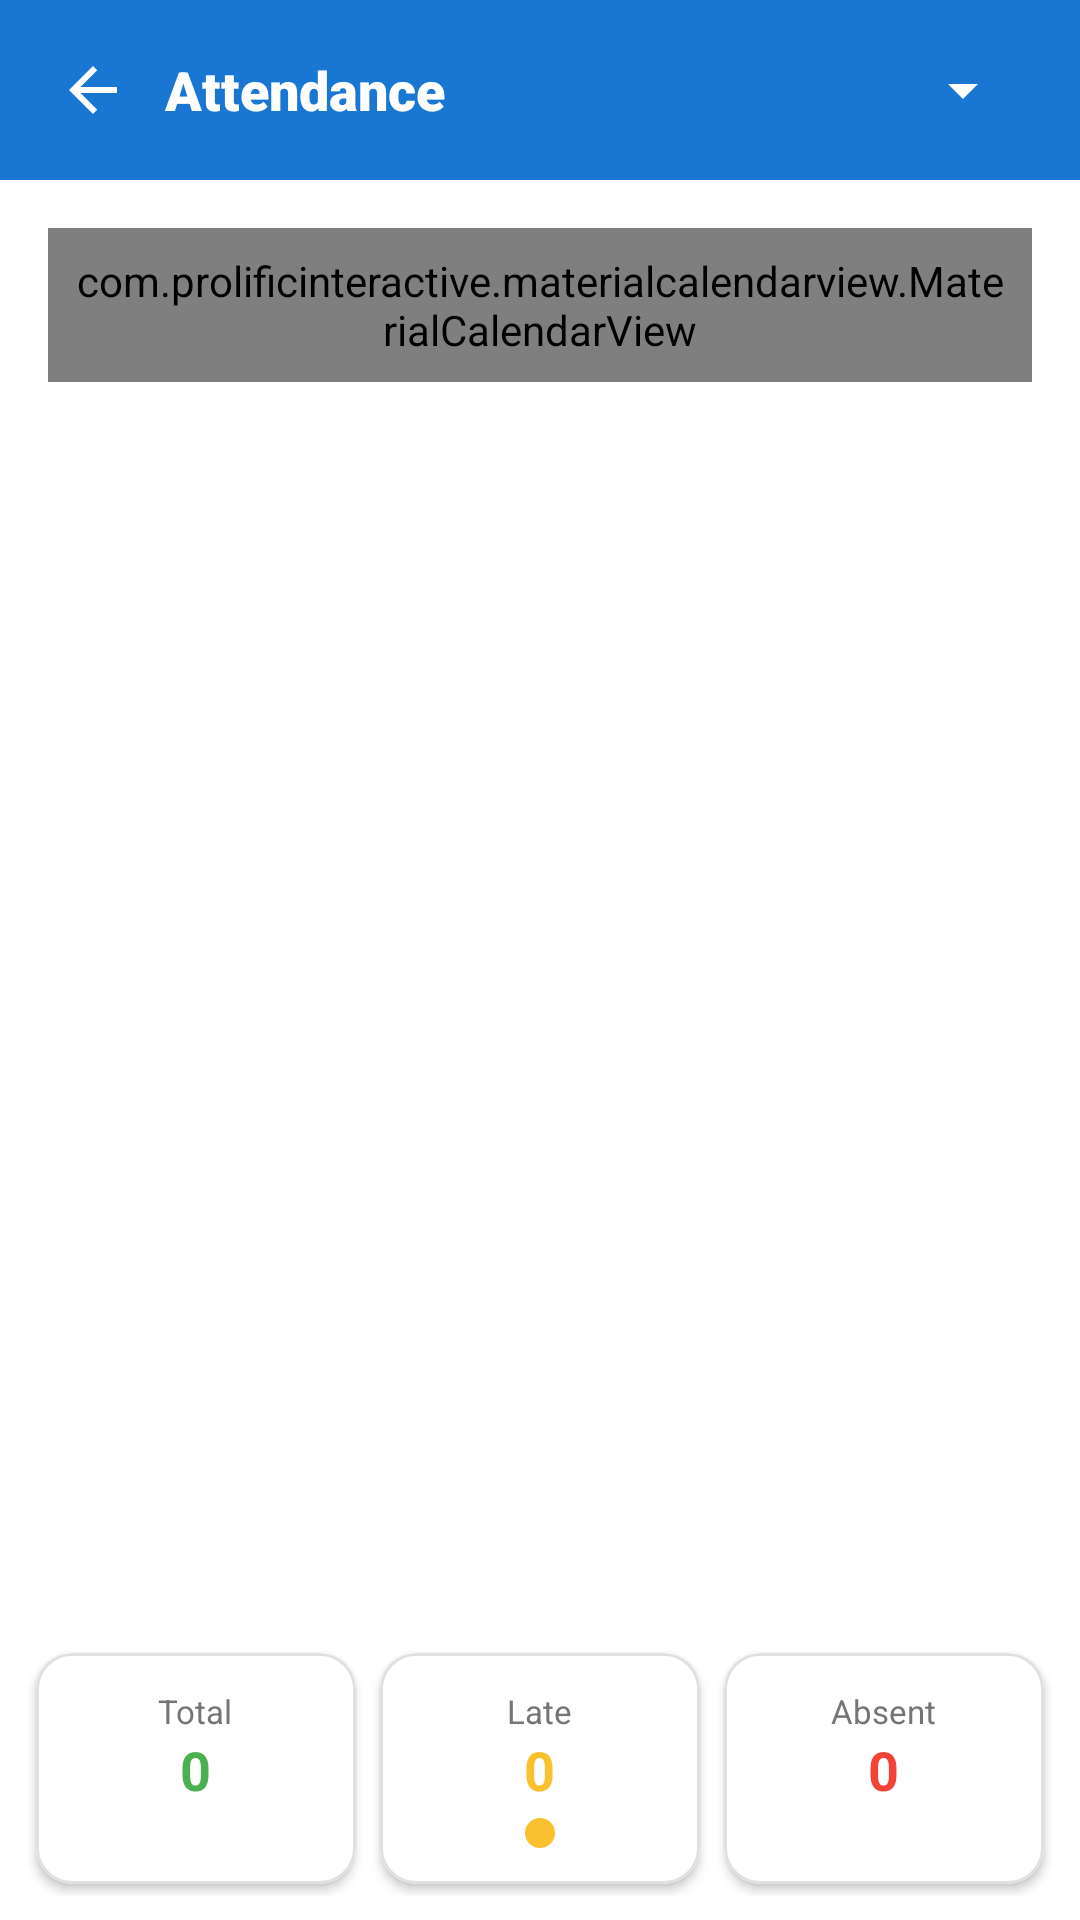

Screen size 1080×1920. Icon name, then its center in pixels as point (x, y):
arrow back: point (93, 90)
